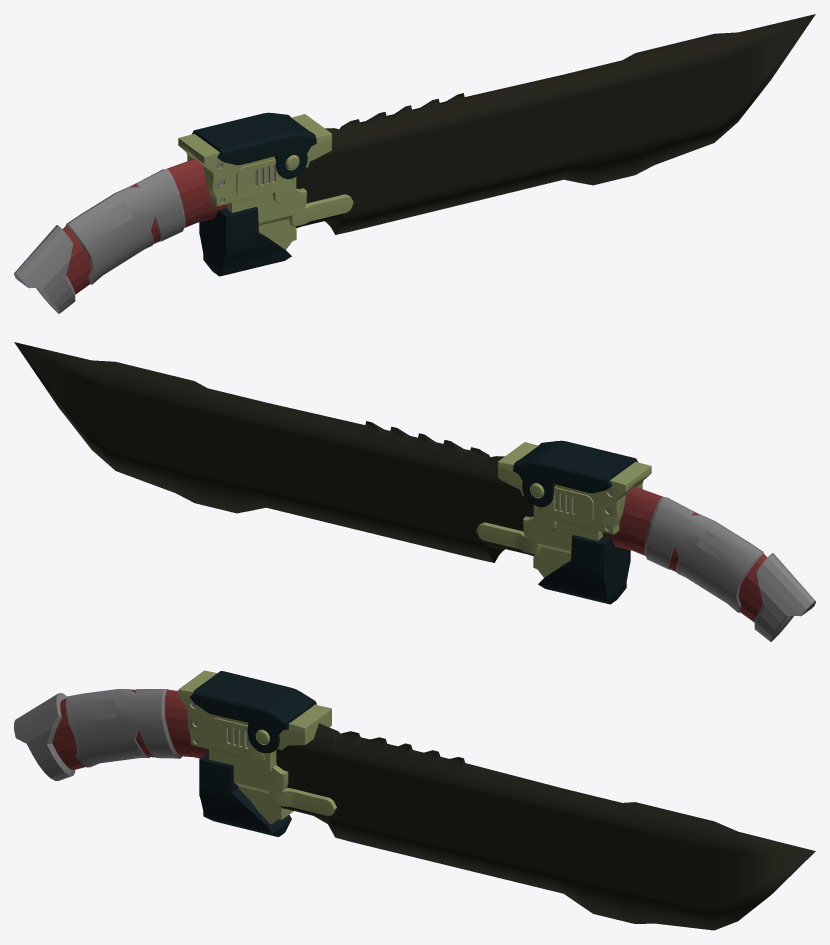
Rendered from zombie_sword_edit_substance.fbx.
The picture shows the model from 3 angles, top to bottom: view 1: azimuth 30°, elevation 25°; view 2: azimuth 150°, elevation 25°; view 3: azimuth 330°, elevation 25°; orthographic projection.
Visible parts, largest first — view 1: pCylinder5 (×6); view 2: pCylinder5 (×6); view 3: pCylinder5 (×6).
Boxes of the visible parts, x1,y1,x2,y2 form: pCylinder5 (×6): (14,14,815,313); pCylinder5 (×6): (14,342,815,641); pCylinder5 (×6): (14,670,815,930).
Bounding box in the file's own units: 9.77 × 1.63 × 0.6802.
